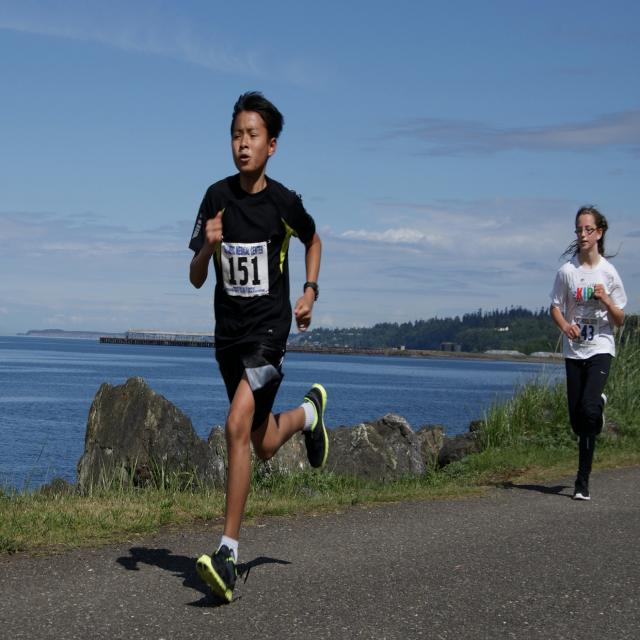Person: (188, 90, 328, 604), (552, 205, 628, 500)
